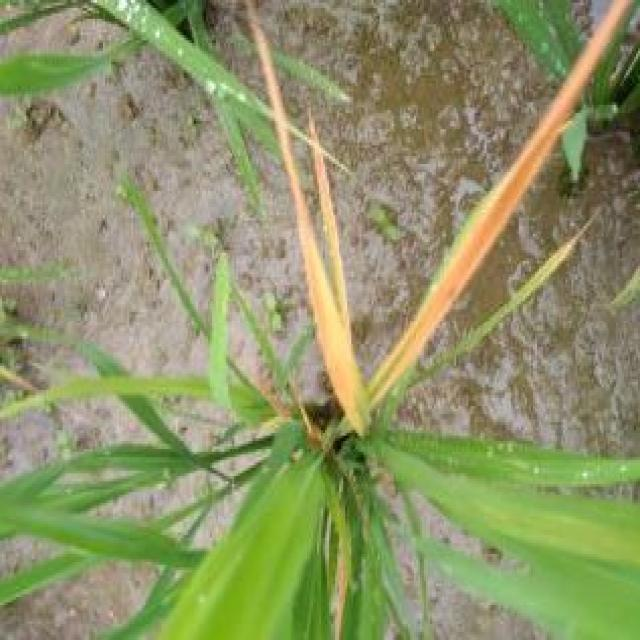Tungro: (387, 2, 640, 414), (246, 2, 376, 460)
